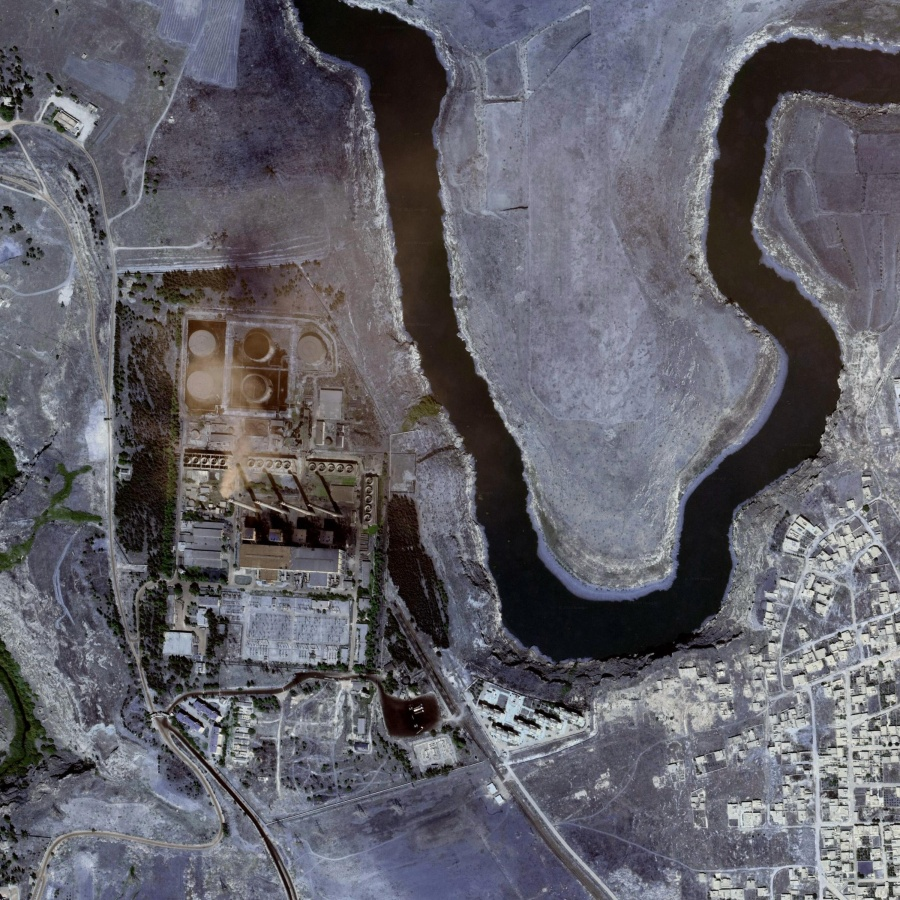PowerPlant: (124, 266, 502, 779)
